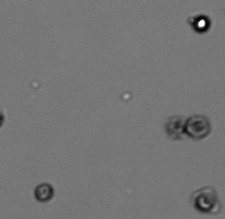Dead Cell: (185, 114, 211, 138), (195, 190, 215, 211), (166, 115, 184, 136), (35, 183, 53, 202)
Living Cell: (193, 15, 210, 33)
